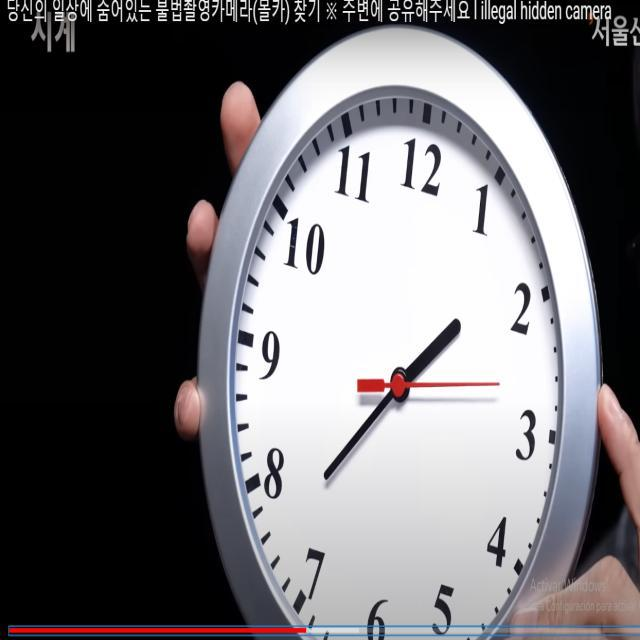hidden camera: (292, 232, 296, 241)
